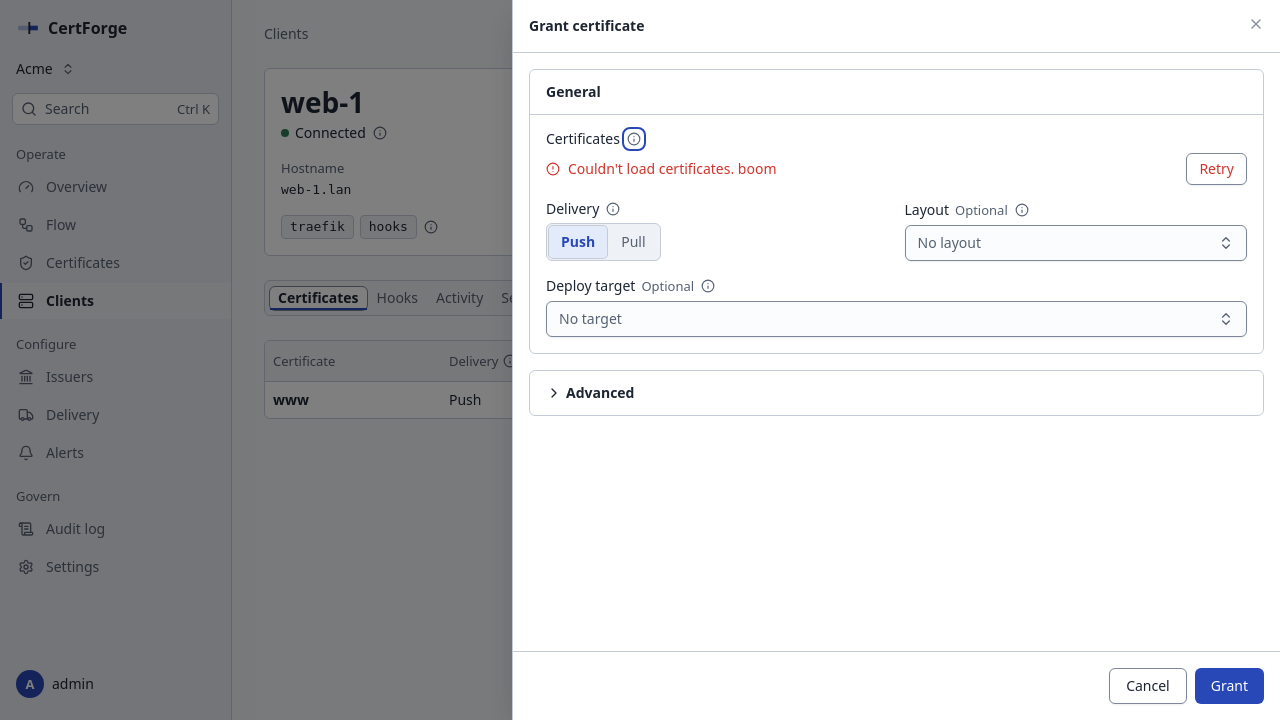
shows an inline error with retry when certificates fail to load
Check: the text "Couldn't load certificates. boom" is shown, box [568,159,776,178]
Click the button "Retry" at (1217, 169), box [1186,153,1247,185]
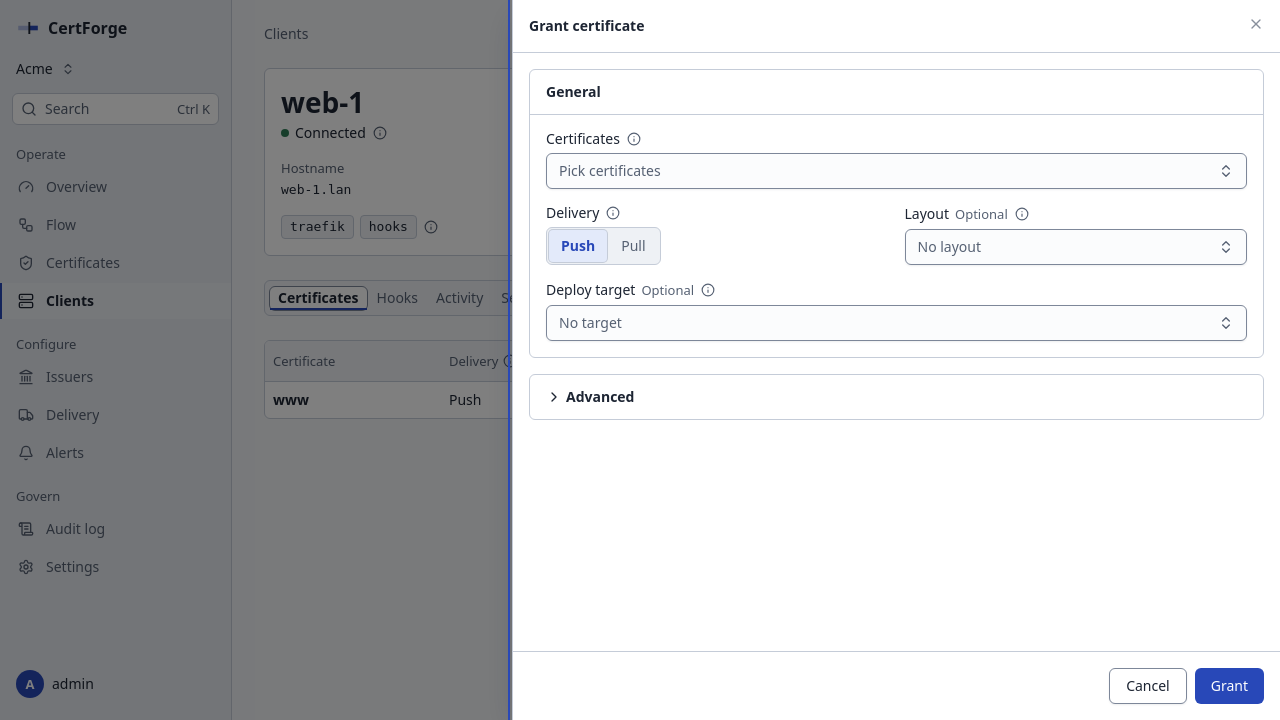
Check: the dropdown labelled "certificates" is shown, box [546,153,1247,189]
